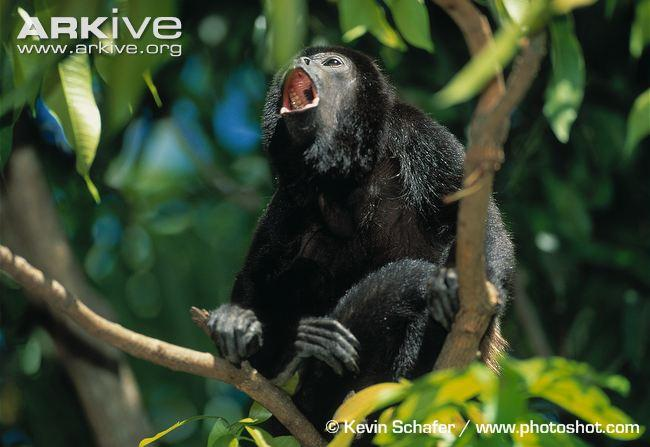monkey: (191, 46, 466, 421)
